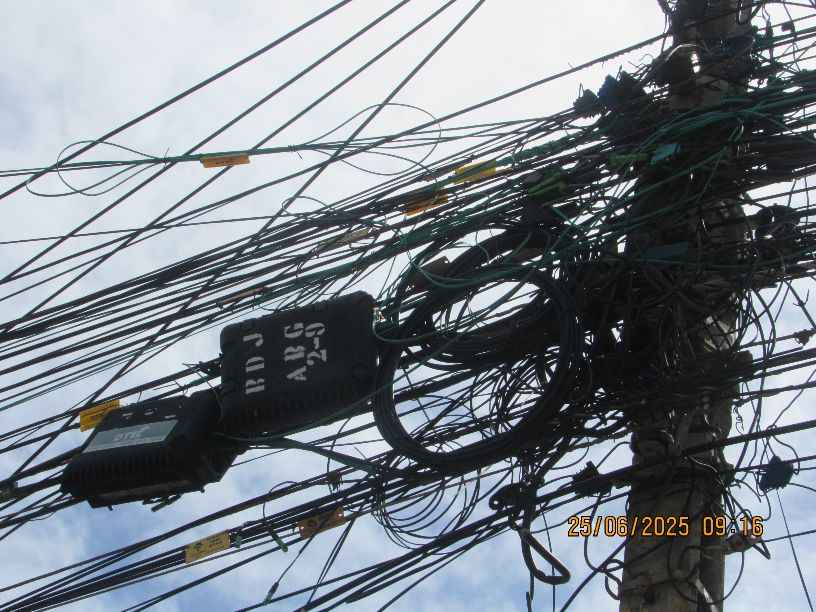caixa_derivacao: (207, 294, 399, 425), (60, 384, 237, 508)
drop: (730, 190, 816, 265), (553, 66, 653, 128), (729, 441, 808, 504), (561, 464, 627, 512)
fibra_optica: (168, 507, 373, 564)
tronco_metalico: (376, 267, 574, 474), (427, 222, 582, 356)
